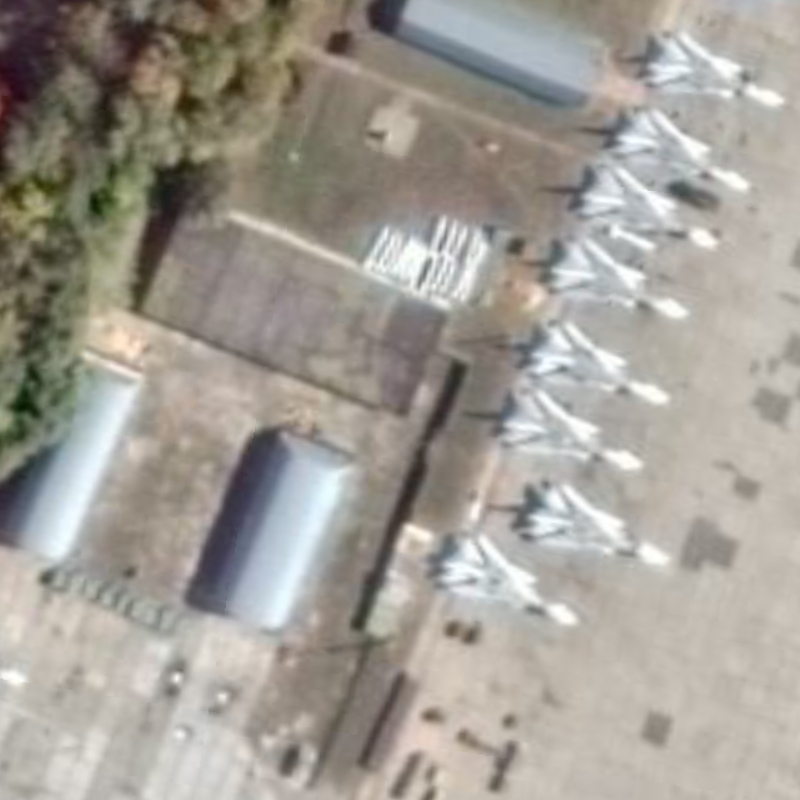A20: (503, 476, 677, 576), (488, 375, 651, 481), (430, 532, 588, 641), (518, 311, 680, 413), (540, 230, 693, 333), (567, 155, 727, 253), (636, 19, 790, 118), (603, 101, 754, 194)
